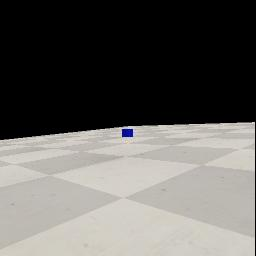box: (122, 129, 133, 137)
